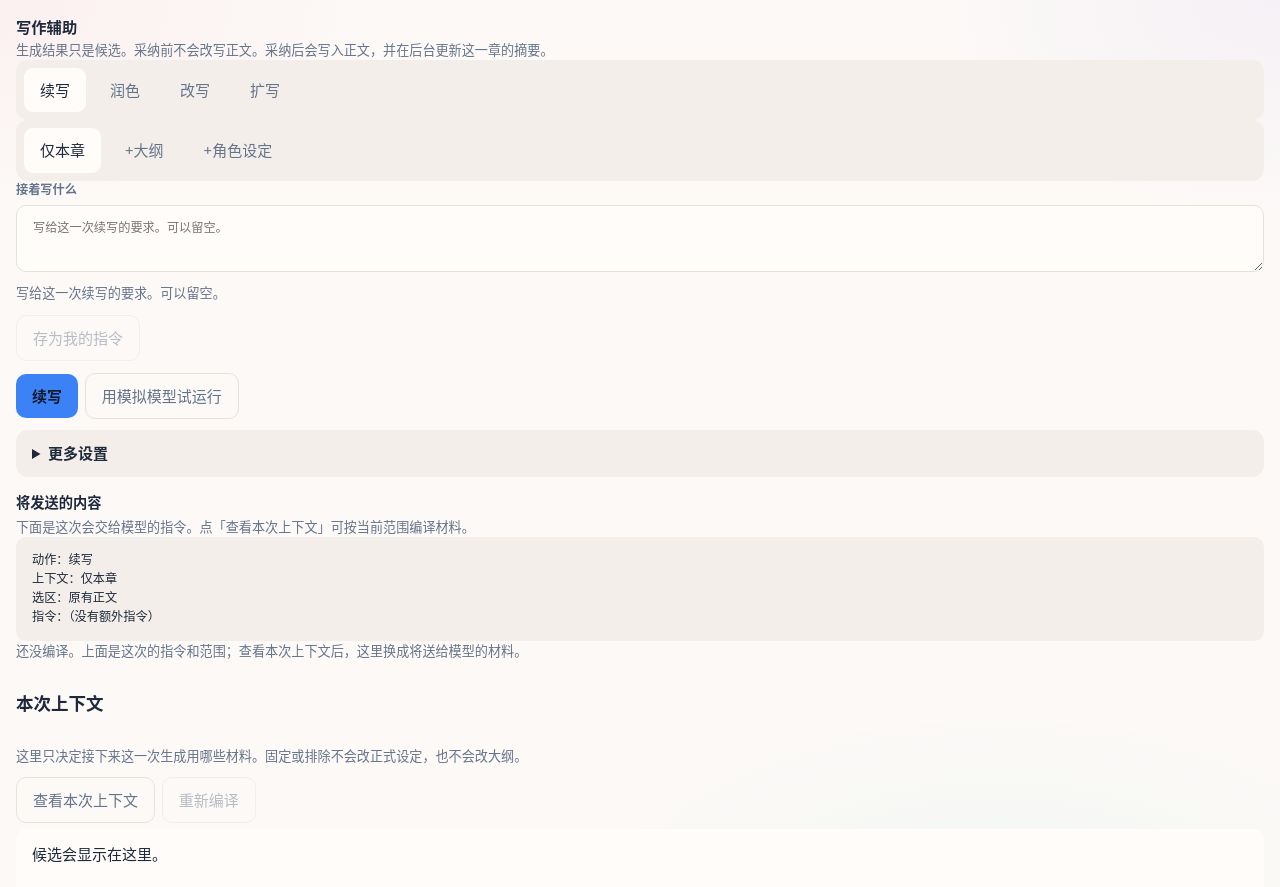
Test: AiPanel › switches verbs and keeps model constraints inside more settings
The image size is (1280, 887).
Expected: the text box labelled "接着写什么" is shown, [16, 205, 1264, 272]
Click the button named "选择润色" at (125,90), box [94, 68, 156, 112]
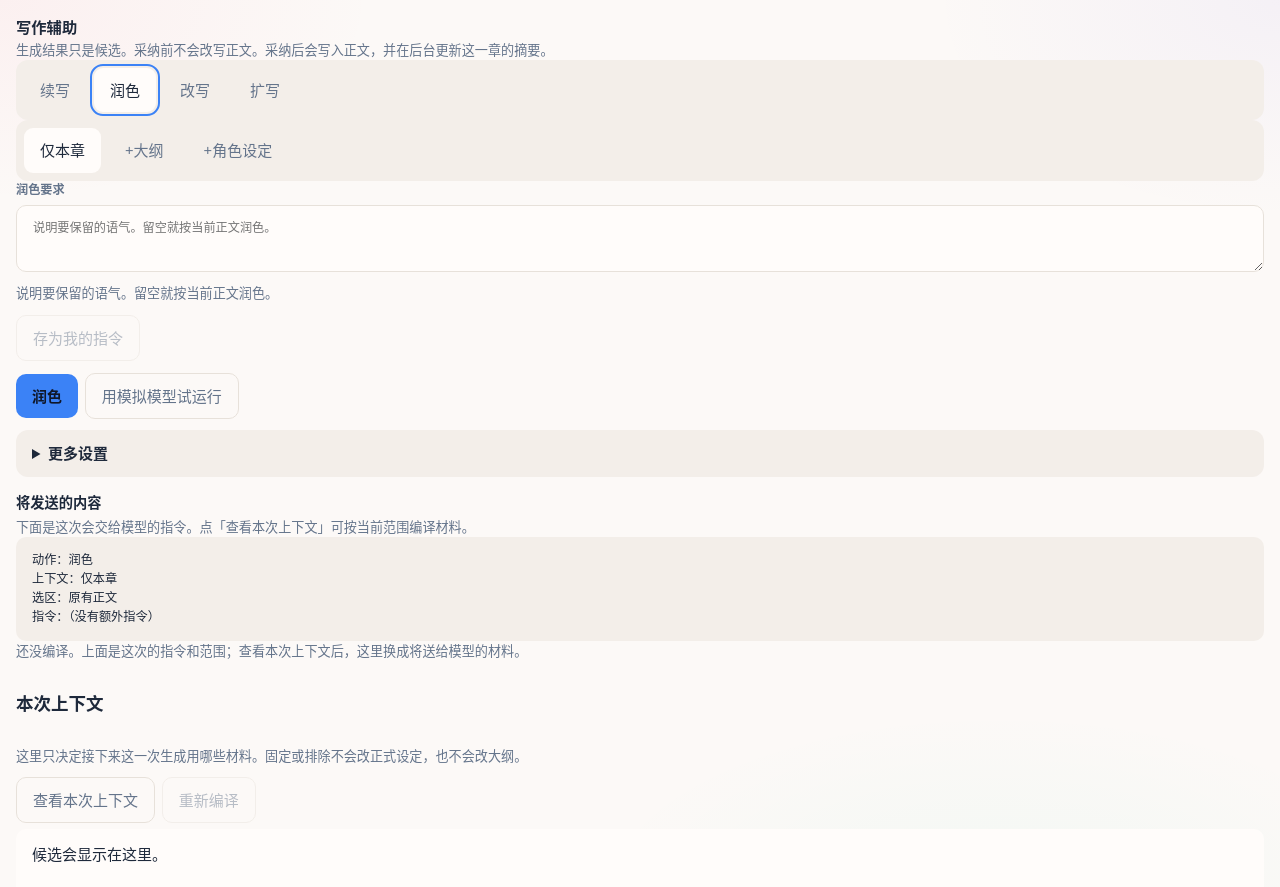
Result: the text box labelled "润色要求" is shown at [16, 205, 1264, 272]
Result: the label "接着写什么" is gone
Result: the button "润色" below "说明要保留的语气。留空就按当前正文润色。" is shown at [16, 374, 78, 418]
Click the heading "更多设置" at (78,453), box [48, 443, 108, 463]
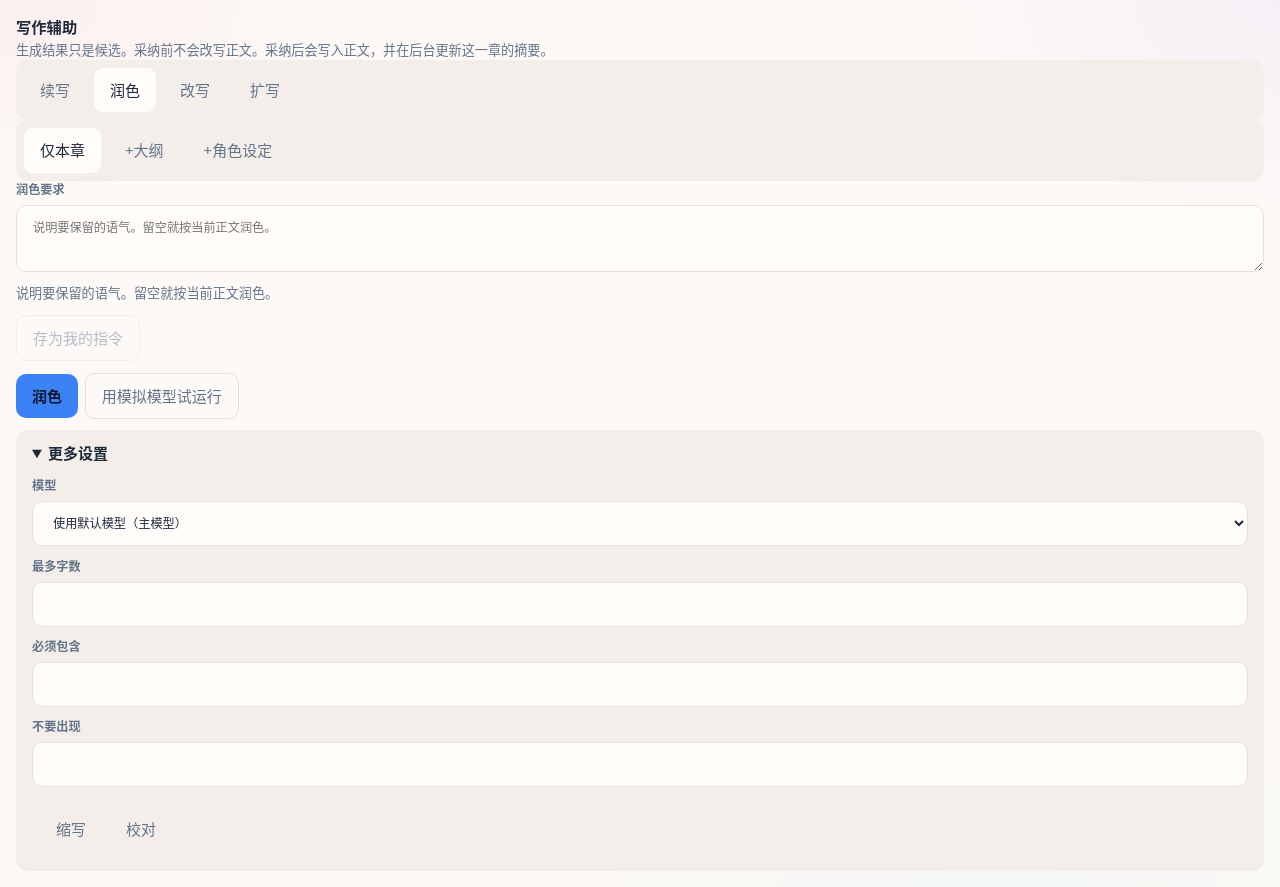
Result: the dropdown labelled "模型" is shown at [32, 501, 1248, 546]
Result: the field labelled "必须包含" is shown at [32, 662, 1248, 707]
Result: the field labelled "不要出现" is shown at [32, 742, 1248, 787]
